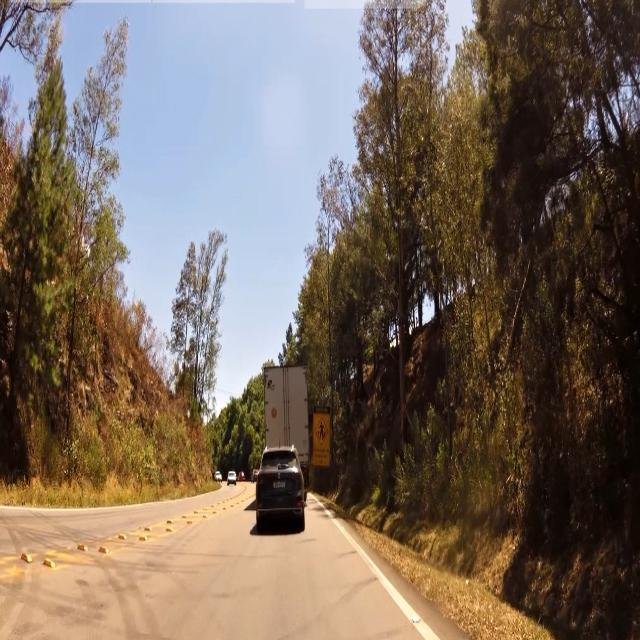A-32b: (316, 416, 328, 446)
